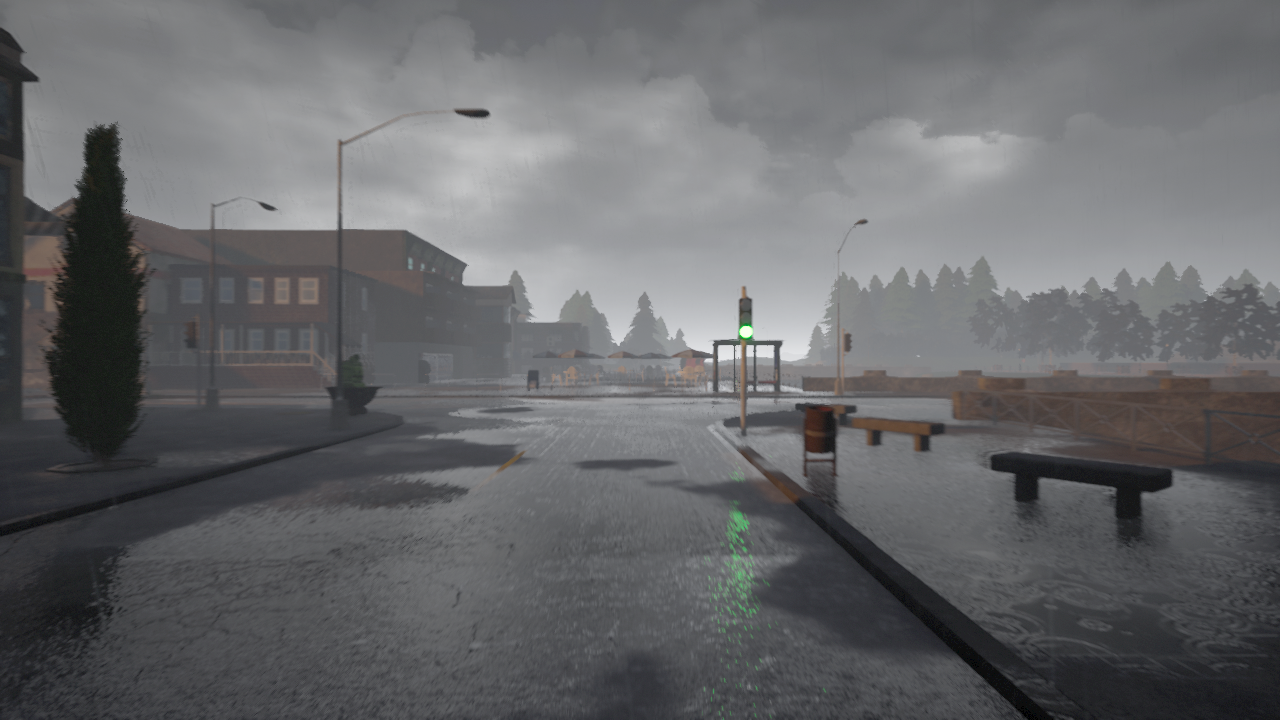green: (737, 296, 758, 341)
